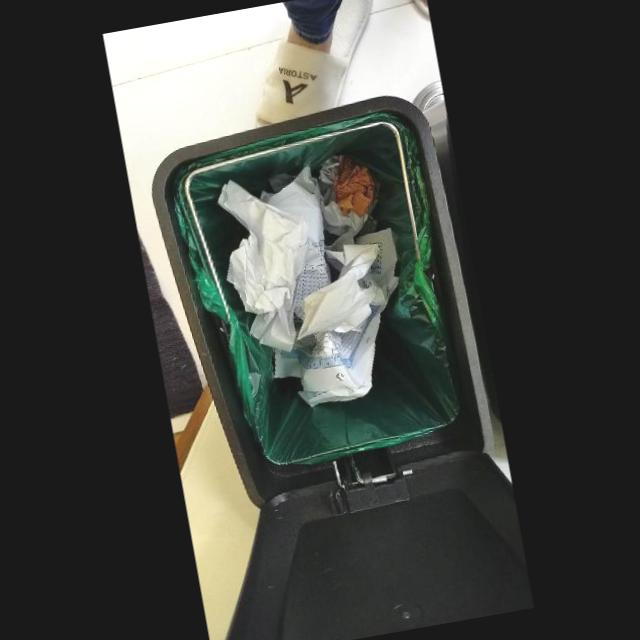giay: (259, 154, 398, 405), (217, 179, 308, 351), (297, 243, 386, 339), (333, 154, 380, 217)
